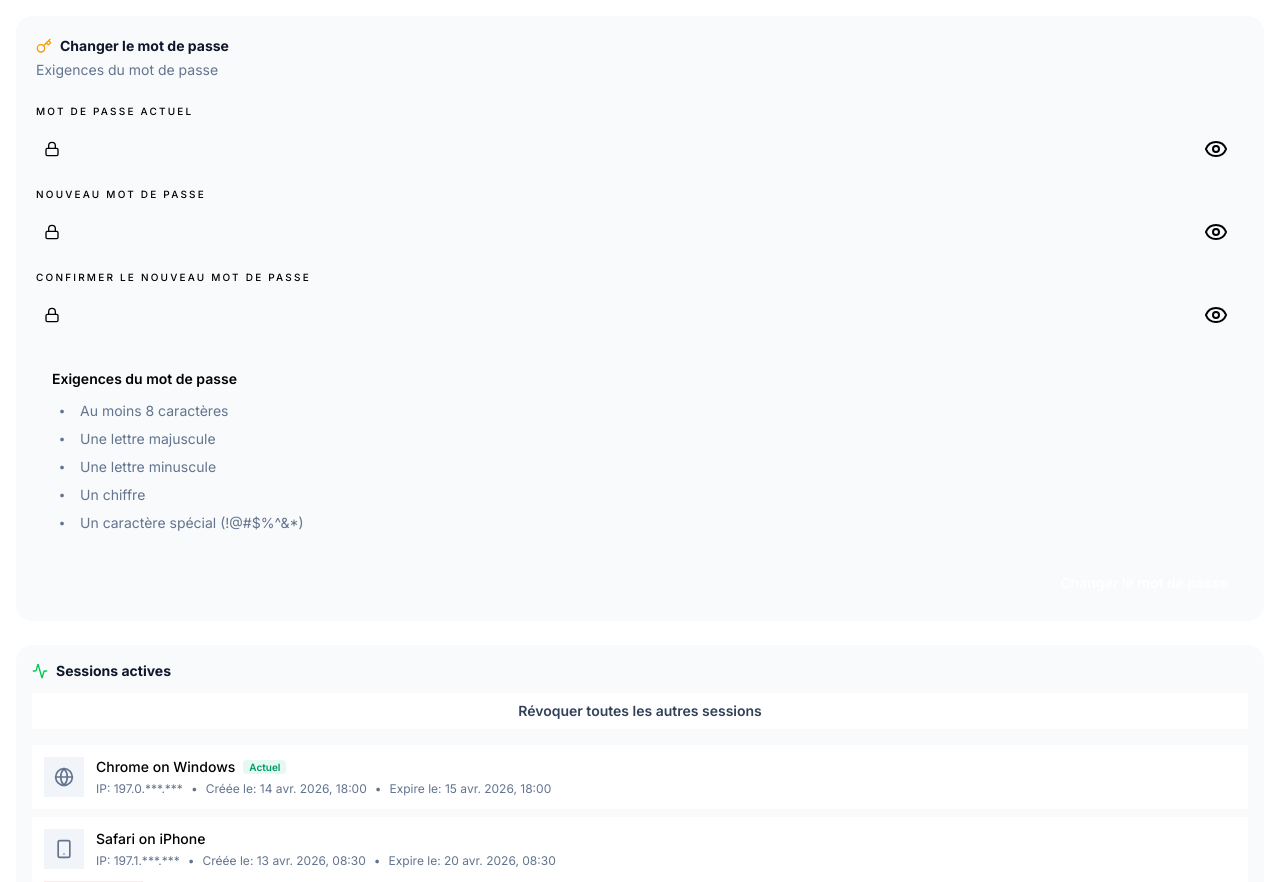
Test case: AccountSecuritySection › shows the no-other-sessions indicator instead of an empty list after revoking the remaining sessions
Expected: the password field labelled "Mot de passe actuel" is shown, [60, 127, 1196, 171]
Click the button "Révoquer toutes les autres sessions" at (640, 711), box [32, 693, 1248, 729]
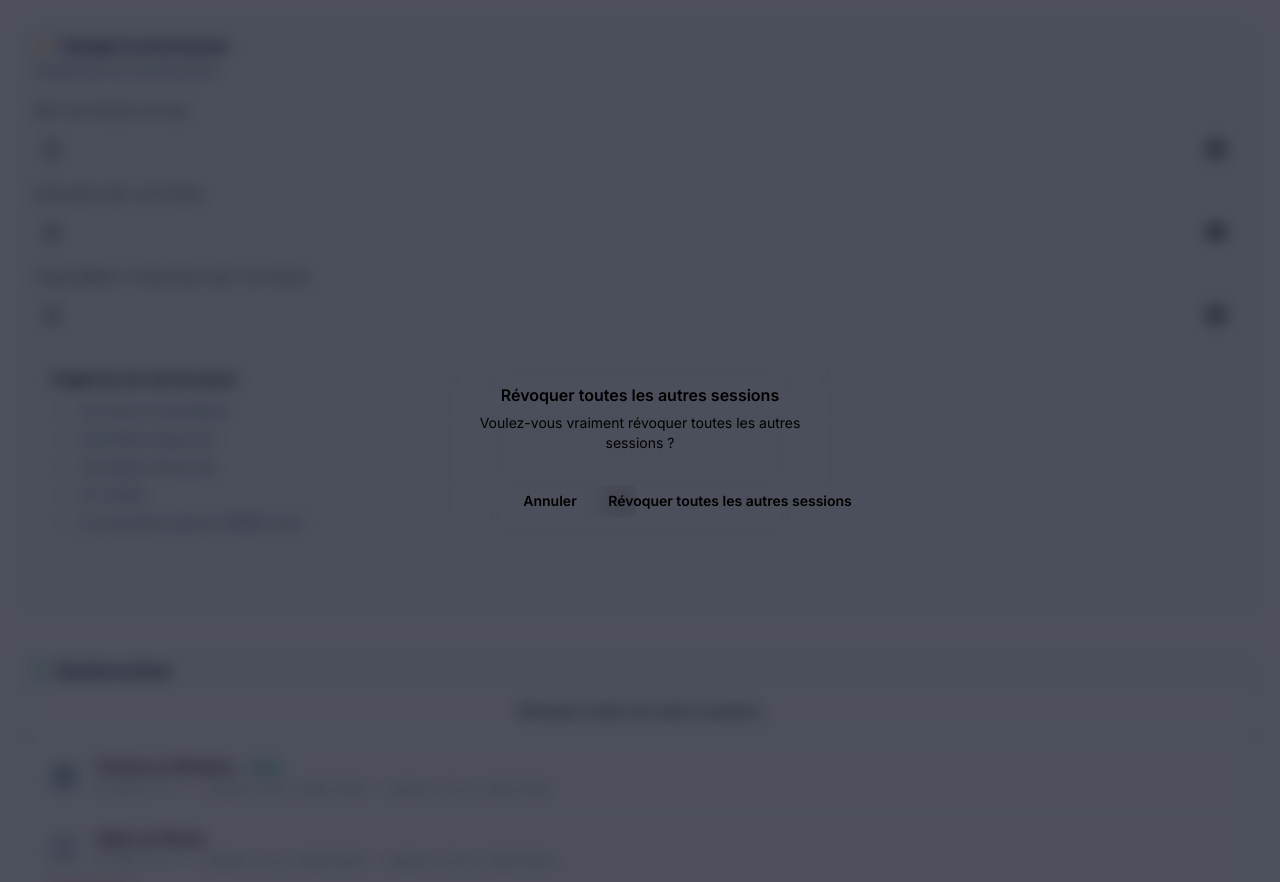
Click the button "Révoquer toutes les autres sessions" at (730, 501), box [644, 485, 816, 517]
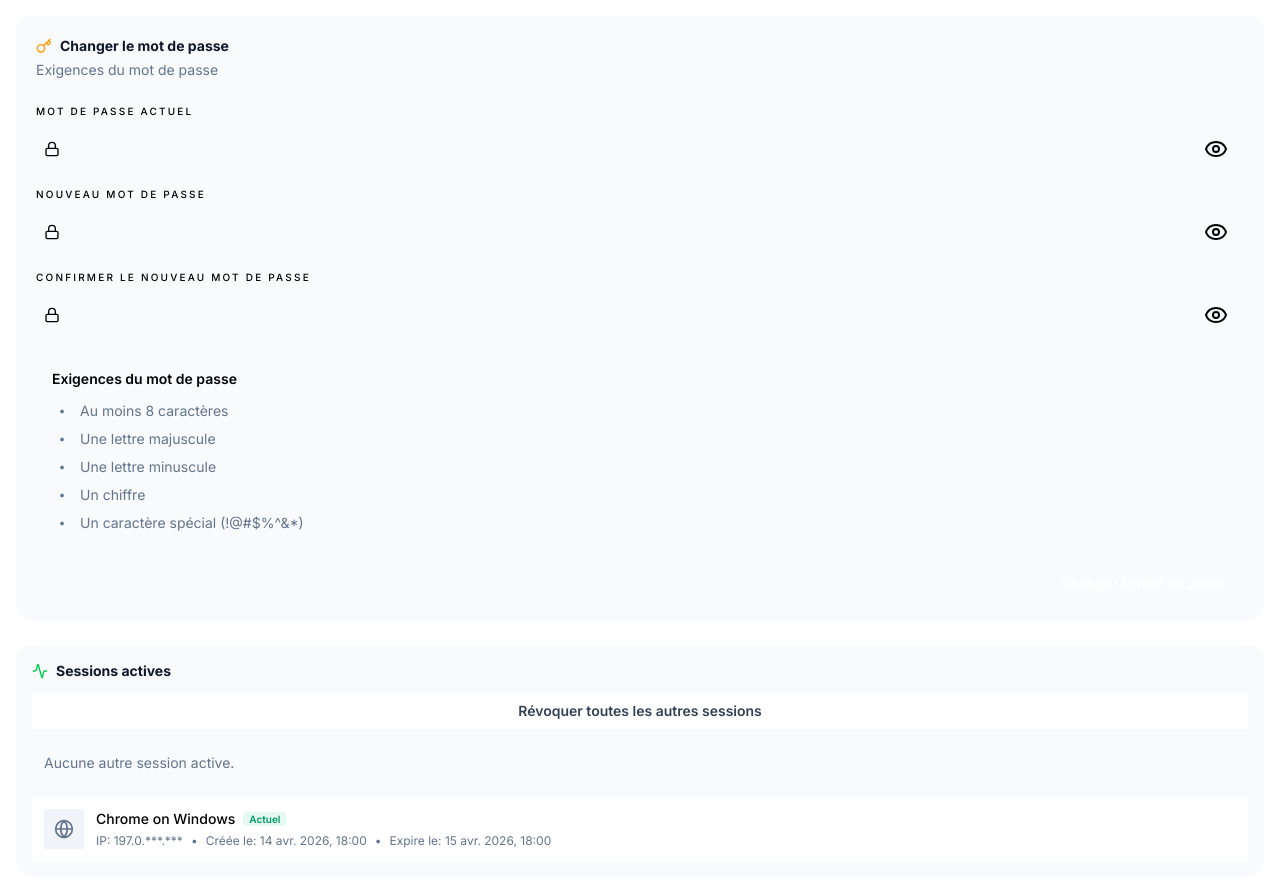
Now the text "Aucune autre session active." is shown once, box [32, 745, 1248, 781]
Now the dialog is gone
Now the button "Révoquer toutes les autres sessions" is disabled, box [32, 693, 1248, 729]
